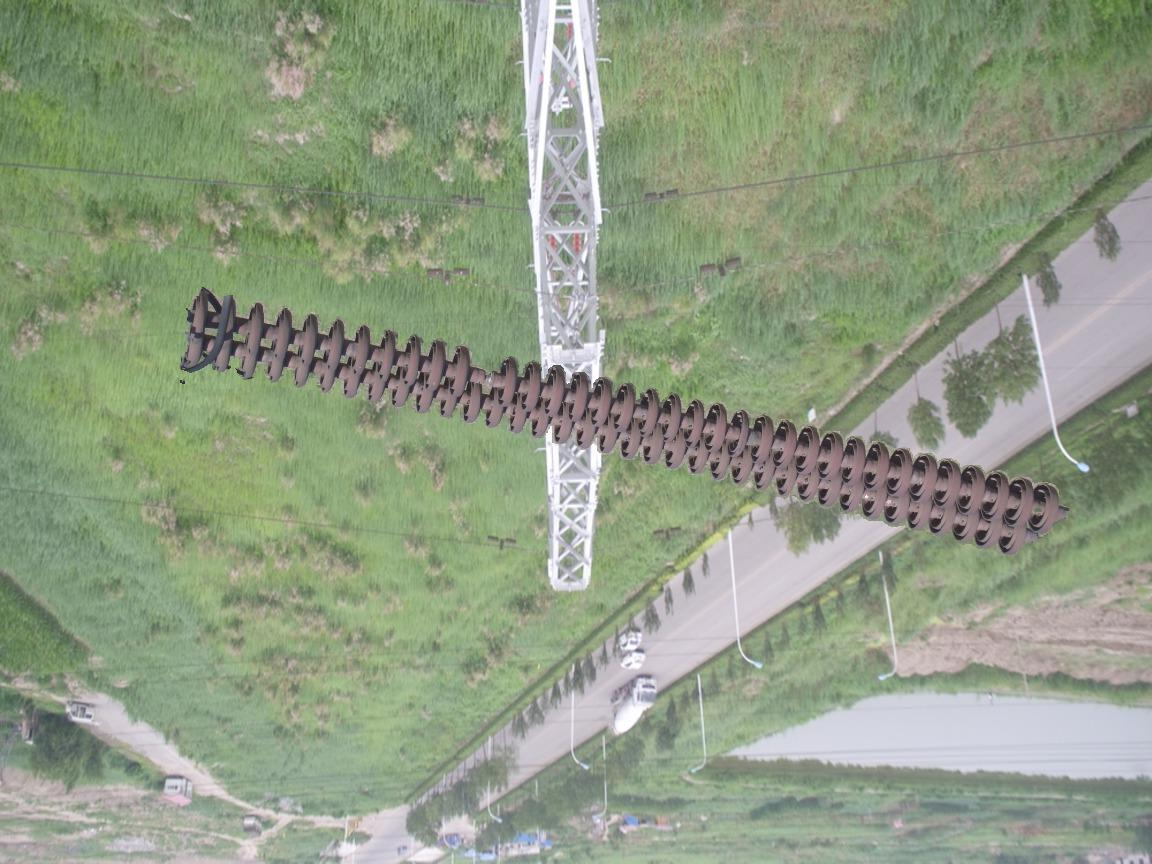insulator: (178, 285, 1072, 560)
insulator_stringdrop: (449, 343, 521, 408)
